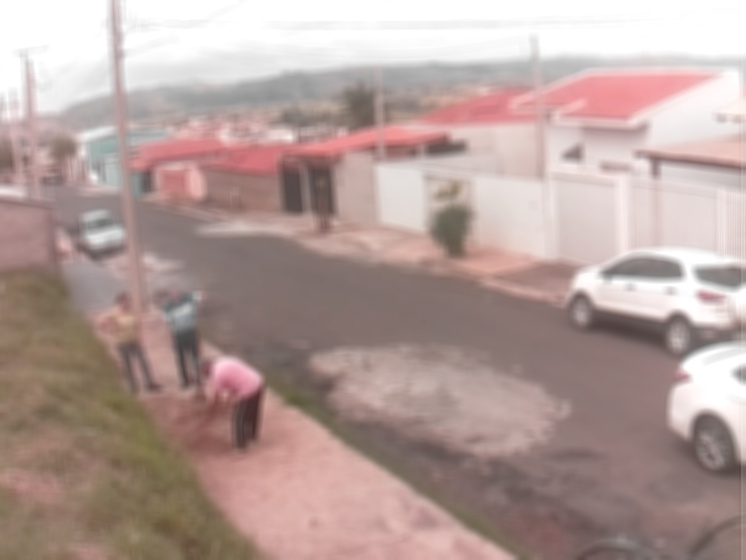person: (194, 356, 265, 460), (95, 292, 164, 395), (166, 286, 211, 390)
